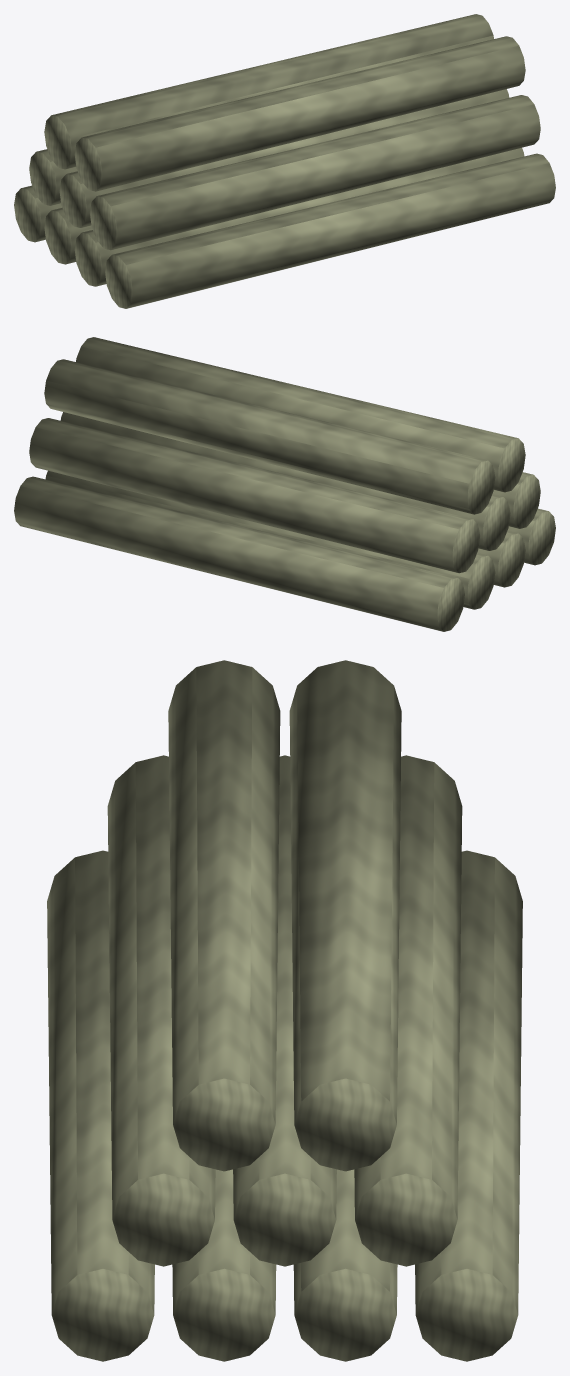
Rendered from timber_stack.glb.
The picture shows the model from 3 angles, top to bottom: view 1: azimuth 30°, elevation 25°; view 2: azimuth 150°, elevation 25°; view 3: azimuth 270°, elevation 25°; orthographic projection. The views are drawn at different scales.
Parts seen in each view (by area): view 1: timber_stack.001; view 2: timber_stack.001; view 3: timber_stack.001.
Part boxes in pixels (x1,y1,x2,y2): timber_stack.001: (14,14,555,308); timber_stack.001: (14,337,555,631); timber_stack.001: (47,660,522,1361).
Bounding box in the file's own units: 4.2 × 1.38 × 2.04.
Materials: 1 (1 with a texture image).
